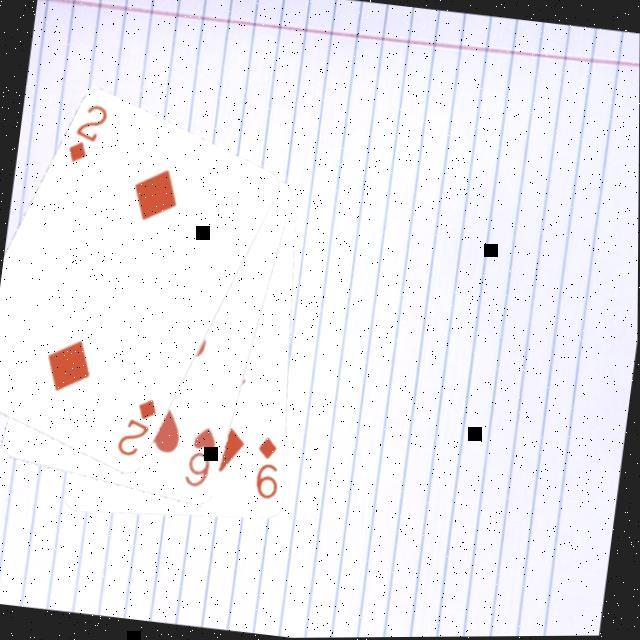2D: (114, 390, 164, 461), (65, 96, 115, 167)
6H: (182, 420, 224, 492)
9D: (250, 432, 288, 503)
